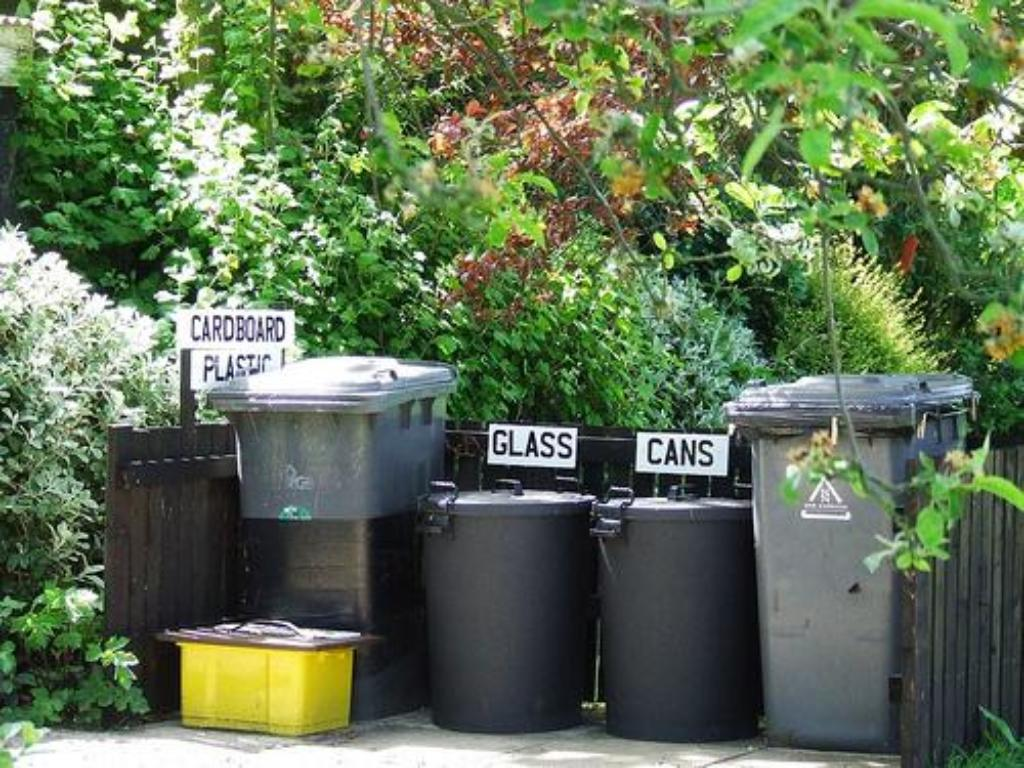dustbin: (733, 362, 990, 728), (220, 353, 445, 720)
